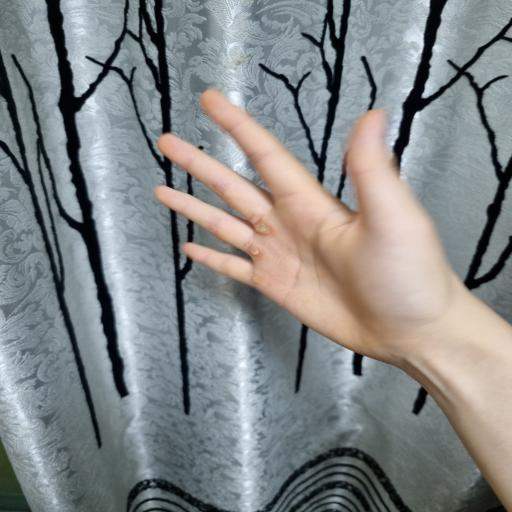Paper: (152, 88, 472, 372)
